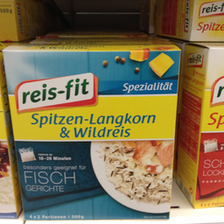rice: (3, 42, 181, 221)
